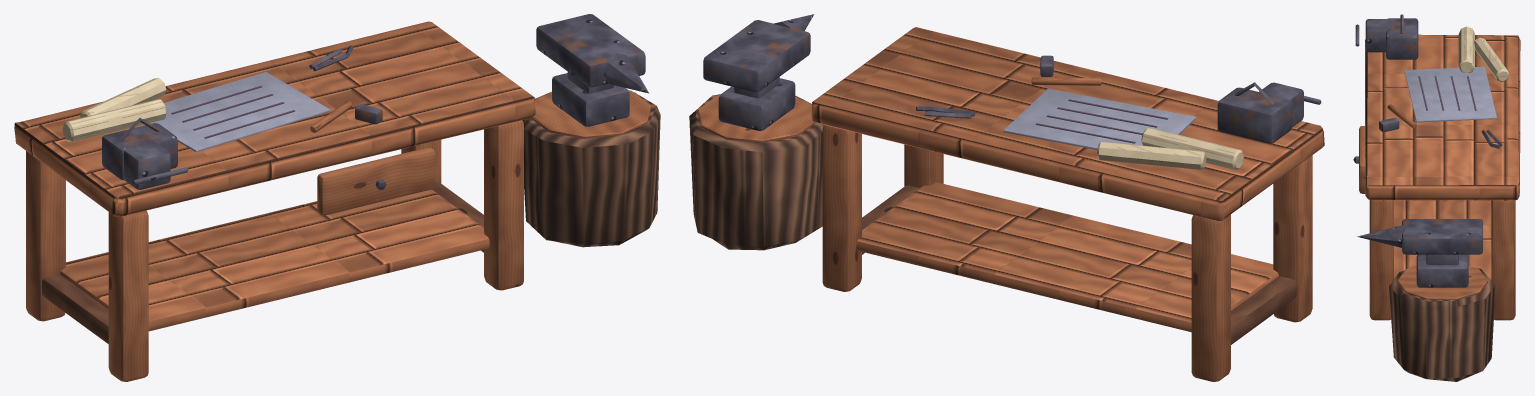
The model's file is spectral_workbench.gltf.
3 views of the same model, side by side, from view 1: azimuth 30°, elevation 25°; view 2: azimuth 150°, elevation 25°; view 3: azimuth 270°, elevation 25° (orthographic). The views are drawn at different scales.
Visible parts, largest first — view 1: spectral_workbench_mesh; view 2: spectral_workbench_mesh; view 3: spectral_workbench_mesh.
Boxes of the visible parts, <box> form: spectral_workbench_mesh: <box>14,14,660,381</box>; spectral_workbench_mesh: <box>689,14,1324,381</box>; spectral_workbench_mesh: <box>1353,14,1520,381</box>.
Size of what is drawn, in the model's own units: 3.06 by 1.22 by 1.03.
Materials: 8 (7 with a texture image).
